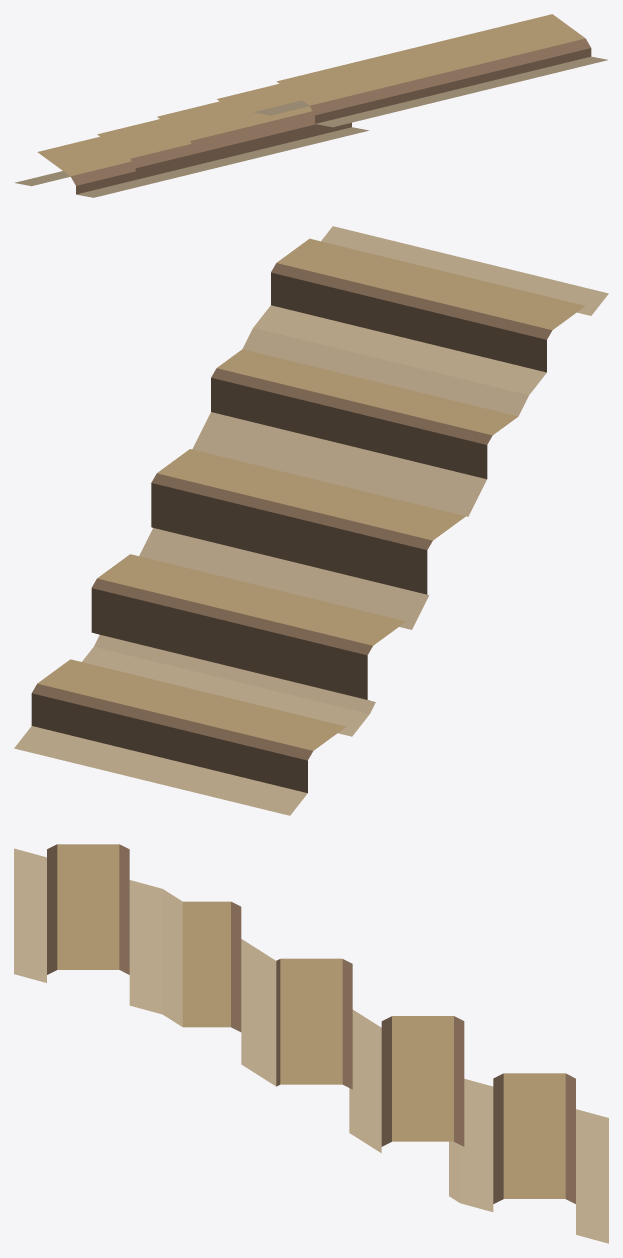
File: Hilly_Terrain_Path_Hill_Sharp_Steps_Center.glb
3 views of the same model, one above another, from view 1: azimuth 30°, elevation 25°; view 2: azimuth 150°, elevation 25°; view 3: azimuth 270°, elevation 25° (orthographic). The views are drawn at different scales.
Parts seen in each view (by area): view 1: Hilly_Terrain_Path_Hill_Sharp_Steps_Center; view 2: Hilly_Terrain_Path_Hill_Sharp_Steps_Center; view 3: Hilly_Terrain_Path_Hill_Sharp_Steps_Center.
Boxes of the visible parts, x1,y1,x2,y2 form: Hilly_Terrain_Path_Hill_Sharp_Steps_Center: (14,14,607,197); Hilly_Terrain_Path_Hill_Sharp_Steps_Center: (14,226,608,815); Hilly_Terrain_Path_Hill_Sharp_Steps_Center: (14,844,608,1243).
Size of the model in its own units: 1 by 1.02 by 2.
